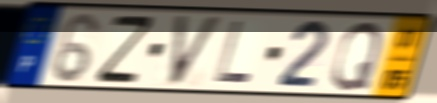2: (275, 17, 332, 93)
6: (48, 10, 102, 85)
L: (212, 19, 254, 87)
Q: (328, 19, 386, 93)
V: (168, 13, 225, 89)
Z: (93, 14, 158, 85)
